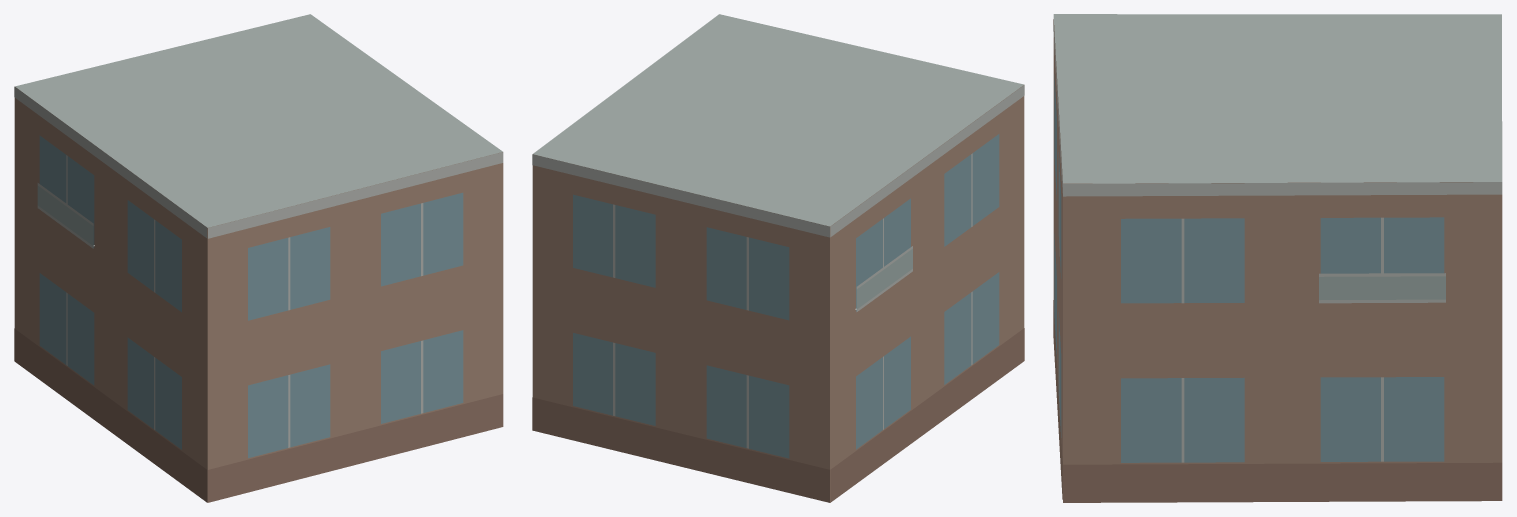
The model's file is survey-upis-32664000.glb.
The picture shows the model from 3 angles, left to right: view 1: azimuth 30°, elevation 25°; view 2: azimuth 150°, elevation 25°; view 3: azimuth 270°, elevation 25°; orthographic projection. The views are drawn at different scales.
Visible parts, largest first — view 1: survey-upis-32664000.tmp; view 2: survey-upis-32664000.tmp; view 3: survey-upis-32664000.tmp.
Boxes of the visible parts, left/top/right/bottom form: survey-upis-32664000.tmp: left=14, top=14, right=503, bottom=502; survey-upis-32664000.tmp: left=532, top=14, right=1024, bottom=502; survey-upis-32664000.tmp: left=1053, top=14, right=1502, bottom=502.
Bounding box in the file's own units: 7 × 6.1 × 7.79.
